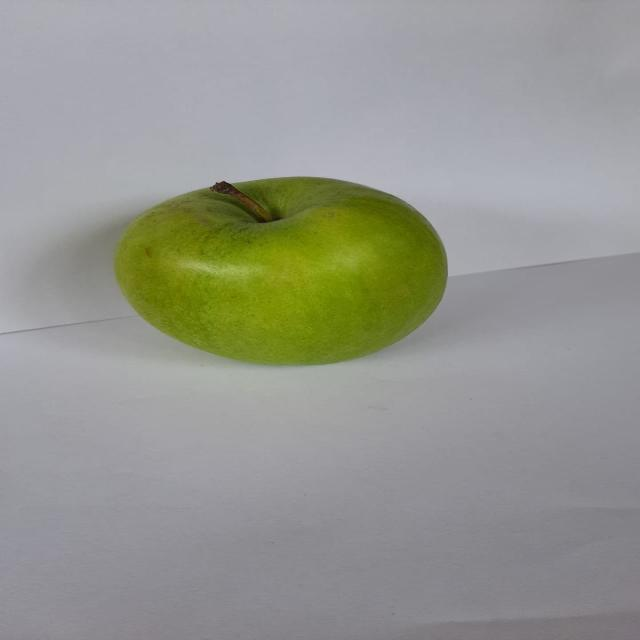50-_ripeness: (95, 168, 466, 382)
